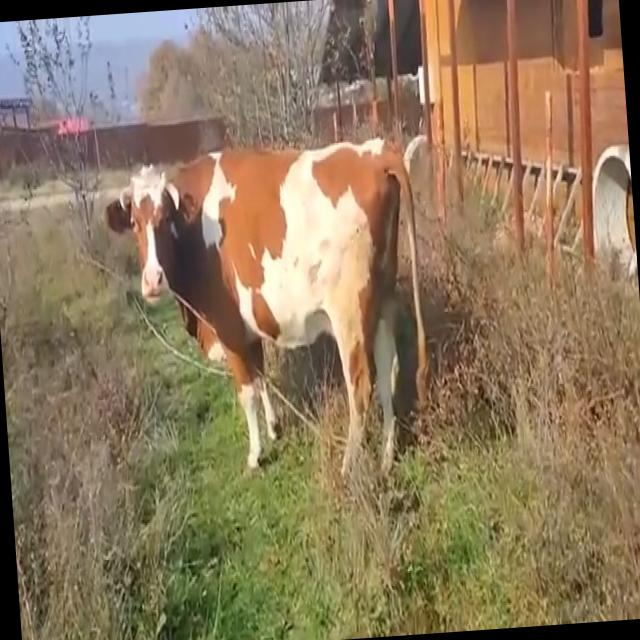cow: (108, 140, 428, 469)
